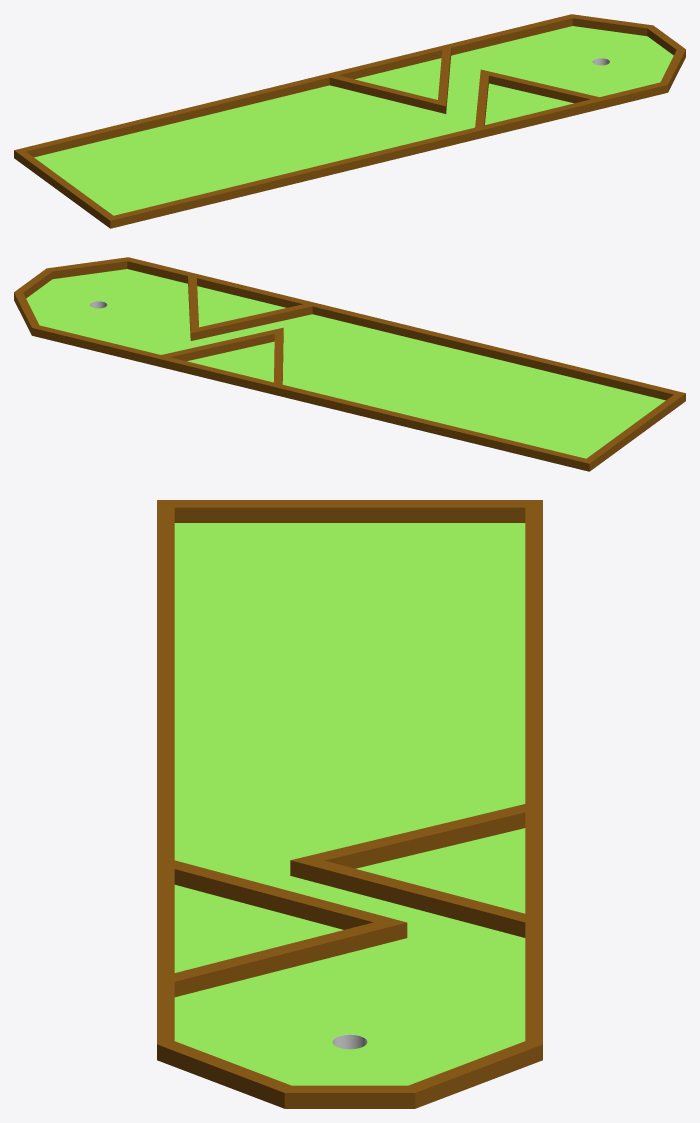
The model's file is hole5_flat.fbx.
3 renders of one model, top to bottom at view 1: azimuth 30°, elevation 25°; view 2: azimuth 150°, elevation 25°; view 3: azimuth 270°, elevation 25°, orthographic. The views are drawn at different scales.
Parts seen in each view (by area): view 1: groundplane, hole5_plane1; view 2: groundplane, hole5_plane1; view 3: groundplane, hole5_plane1.
Part boxes in pixels (x1=…): groundplane: x1=34, y1=26, x2=673, y2=215; hole5_plane1: x1=14, y1=14, x2=685, y2=228; groundplane: x1=26, y1=269, x2=665, y2=458; hole5_plane1: x1=14, y1=257, x2=685, y2=471; groundplane: x1=174, y1=523, x2=525, y2=1085; hole5_plane1: x1=157, y1=500, x2=542, y2=1108.
Bounding box in the file's own units: 400 × 18.66 × 110.
